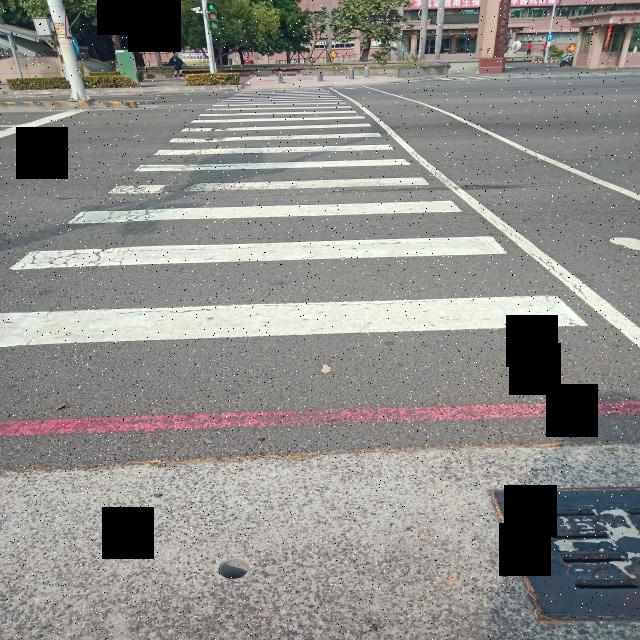zebra crossing: (1, 86, 582, 340)
